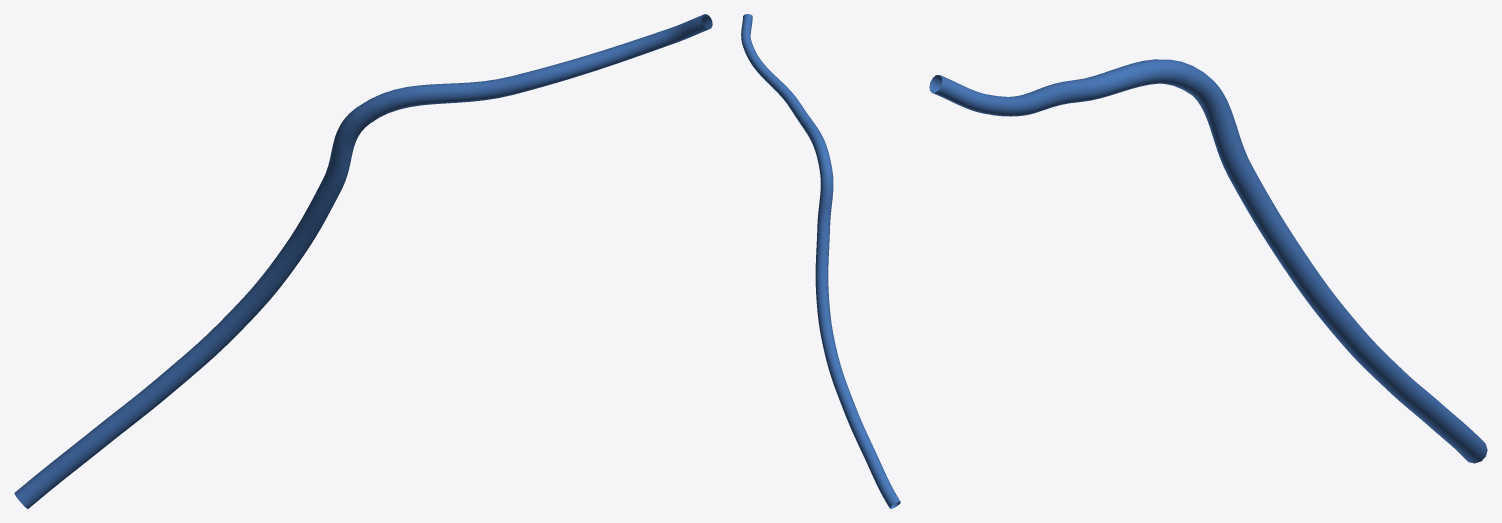
The picture shows the model from 3 angles, left to right: view 1: azimuth 30°, elevation 25°; view 2: azimuth 150°, elevation 25°; view 3: azimuth 270°, elevation 25°; orthographic projection. The views are drawn at different scales.
Visible parts, largest first — view 1: 胃网膜左静脉; view 2: 胃网膜左静脉; view 3: 胃网膜左静脉.
Part boxes in pixels (bbox=[...]): 胃网膜左静脉: bbox=[14, 14, 712, 508]; 胃网膜左静脉: bbox=[741, 14, 900, 508]; 胃网膜左静脉: bbox=[929, 59, 1487, 463].
Size of the model in its own units: 0.0757 by 0.0822 by 0.0631.
